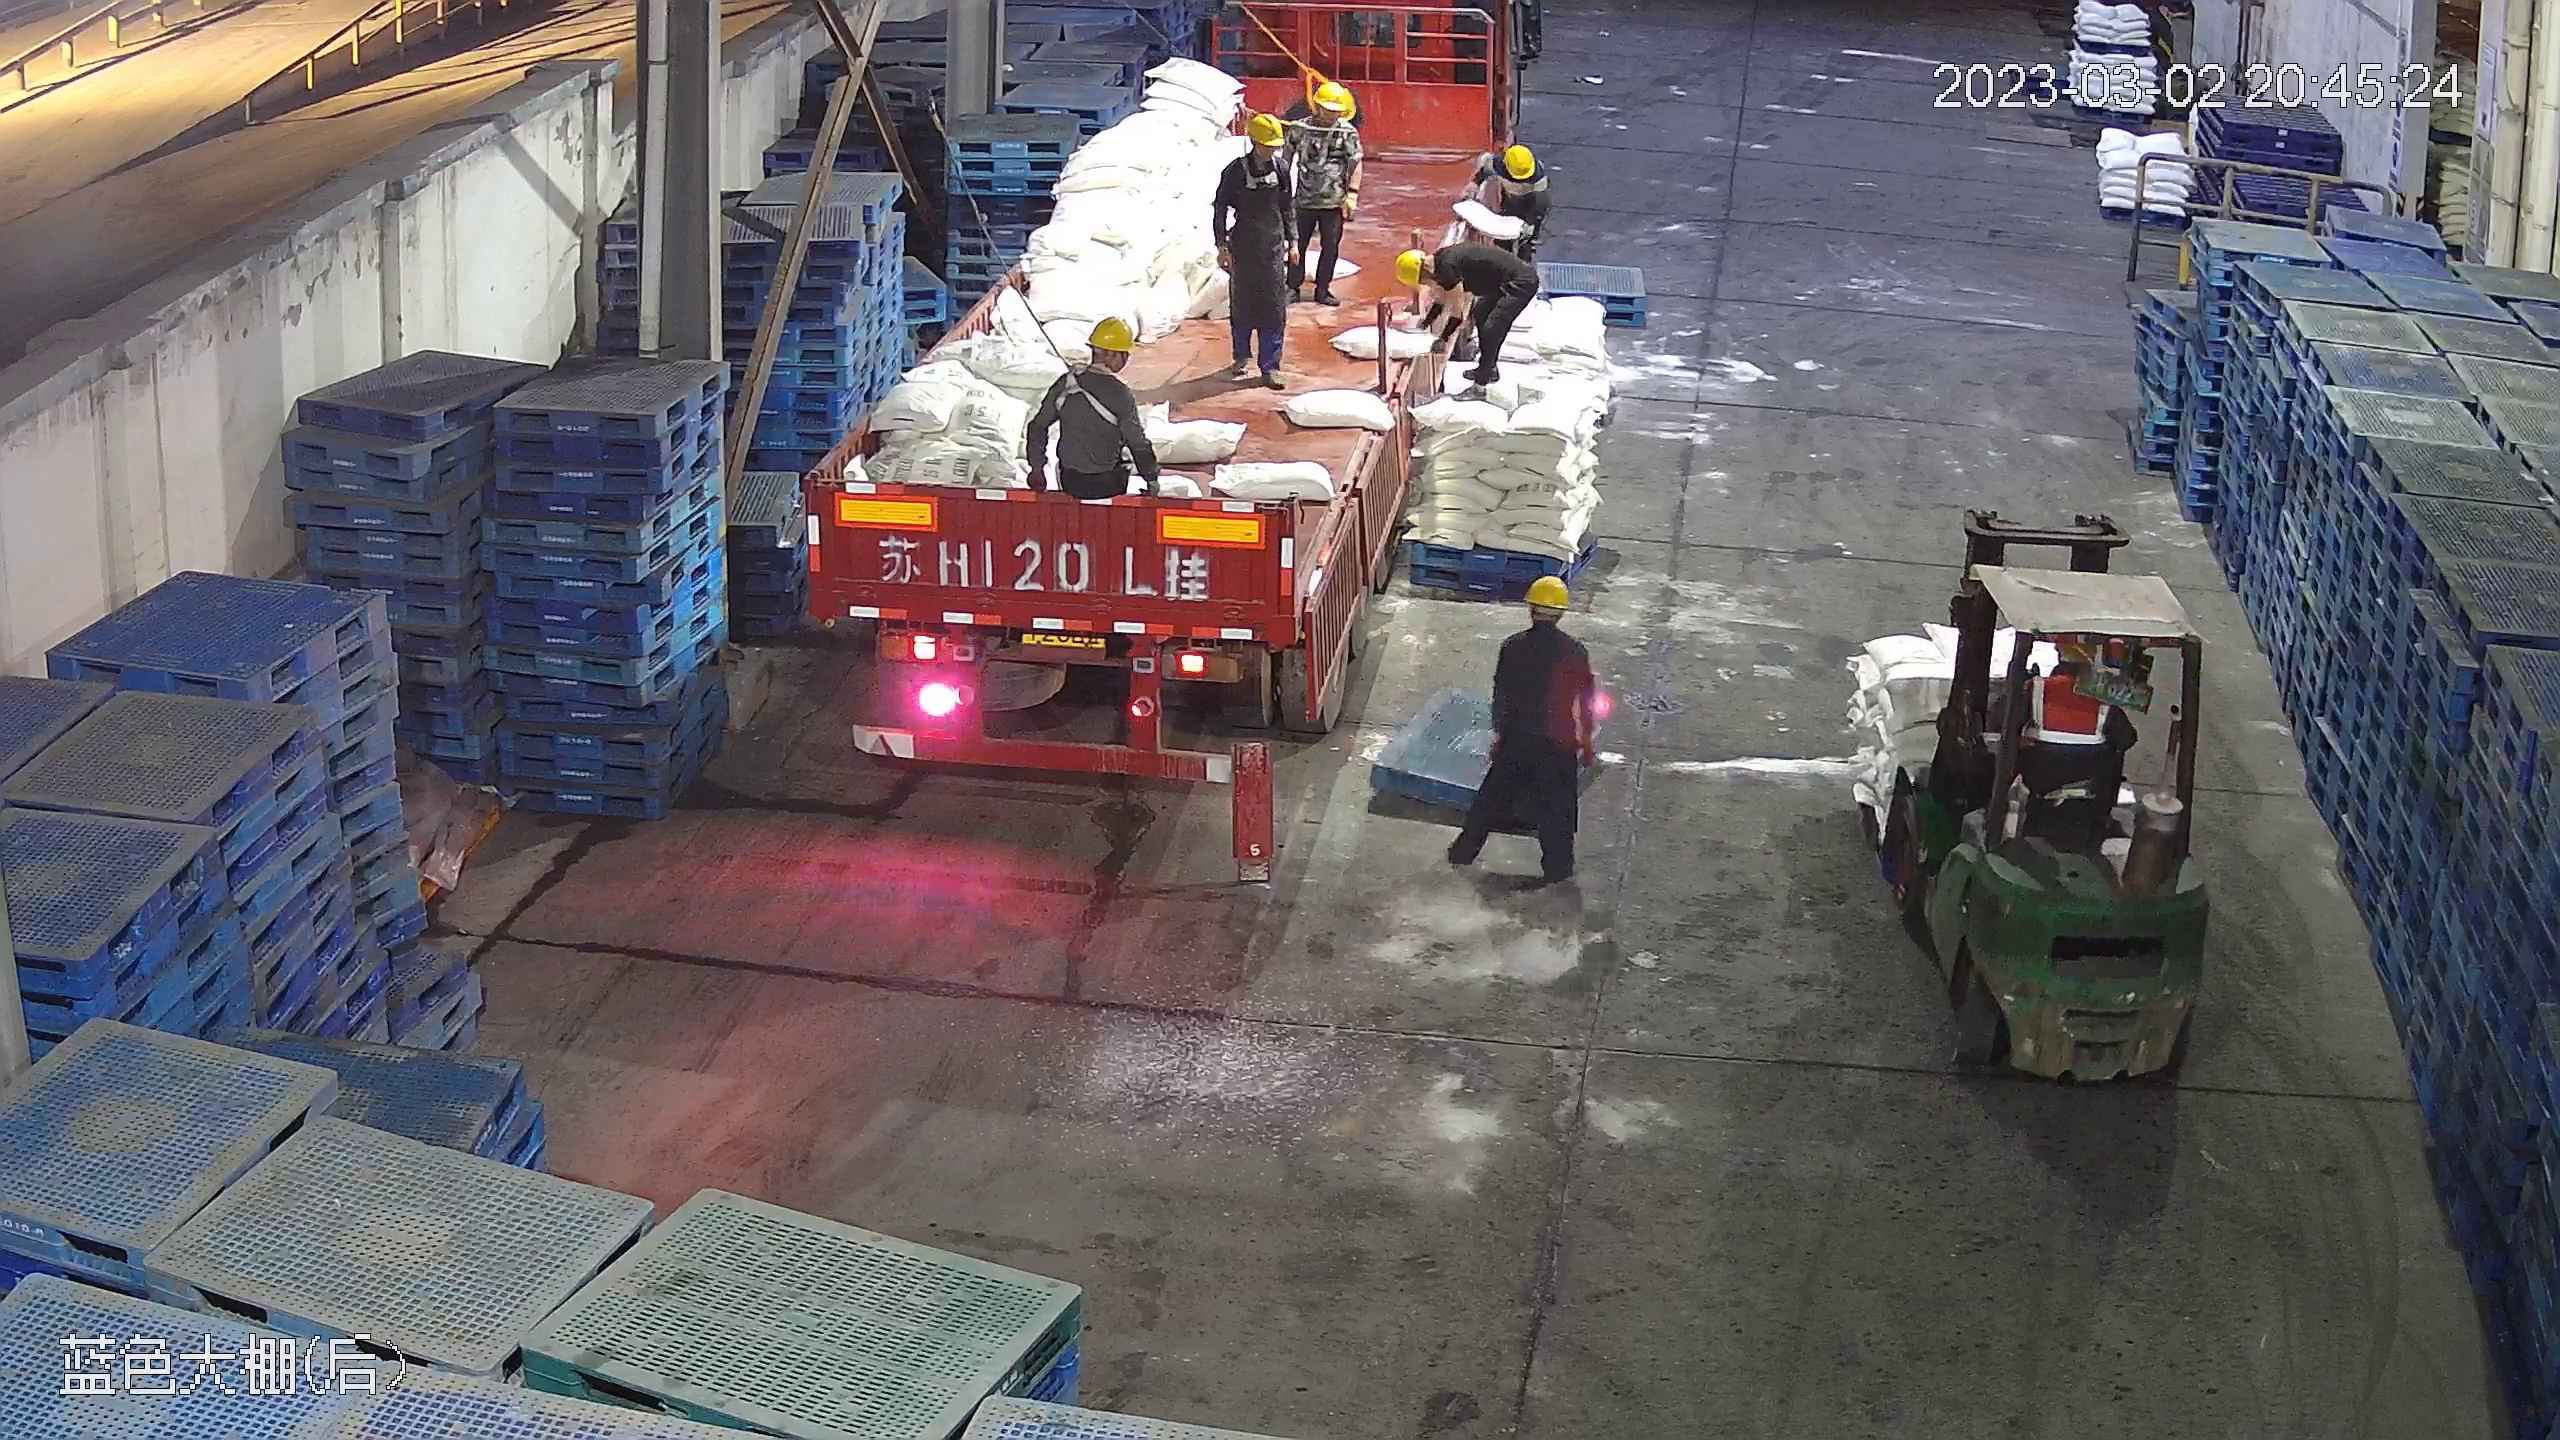belt: (1042, 361, 1124, 437), (1228, 145, 1288, 199), (1300, 115, 1345, 172), (1238, 146, 1280, 190), (1296, 58, 1328, 108)
head: (1486, 571, 1592, 685), (1045, 314, 1146, 410), (1456, 141, 1539, 223), (1213, 109, 1294, 191), (1297, 80, 1364, 158), (1392, 249, 1473, 313)
helmet: (1084, 313, 1140, 355), (1520, 573, 1569, 609), (1236, 110, 1281, 148), (1313, 82, 1357, 118), (1500, 143, 1535, 183), (1393, 249, 1425, 288)
people: (1436, 573, 1597, 886), (1028, 293, 1162, 547), (1235, 85, 1343, 332), (1210, 105, 1302, 379), (1390, 239, 1533, 390), (1290, 83, 1365, 307), (1473, 134, 1555, 258)
truck: (831, 20, 1495, 787)
